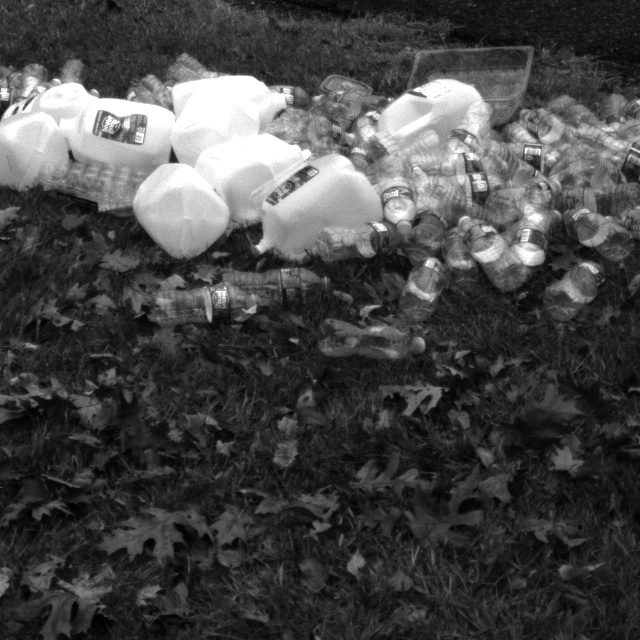bottle: (133, 279, 301, 338), (451, 195, 532, 289), (457, 126, 578, 184), (552, 172, 628, 255), (547, 250, 625, 326), (392, 238, 466, 317), (421, 166, 530, 212), (587, 121, 640, 198)
can: (251, 147, 401, 258), (54, 77, 194, 176), (351, 75, 490, 165), (187, 126, 299, 236), (176, 48, 285, 155), (135, 159, 226, 262), (0, 113, 73, 189)
container: (397, 31, 559, 126), (32, 138, 145, 232), (293, 63, 379, 131)
